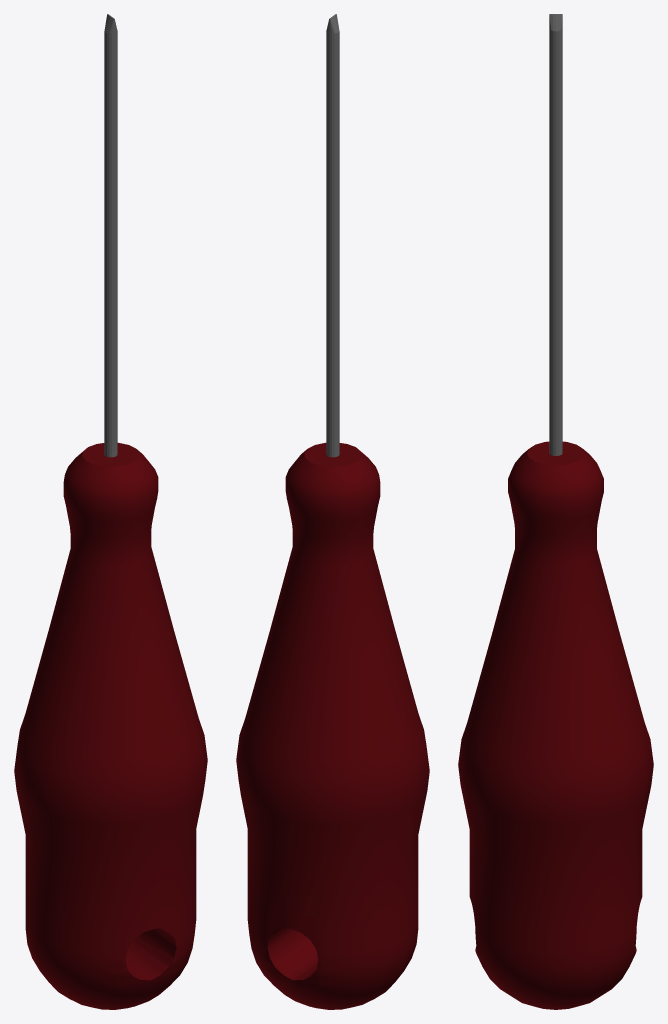
The model's file is screwdriver.fbx.
The picture shows the model from 3 angles, left to right: view 1: azimuth 30°, elevation 25°; view 2: azimuth 150°, elevation 25°; view 3: azimuth 270°, elevation 25°; orthographic projection.
Parts seen in each view (by area): view 1: screwdriver; view 2: screwdriver; view 3: screwdriver.
Part boxes in pixels (x1,y1,x2,y2): screwdriver: [14, 14, 207, 1009]; screwdriver: [236, 14, 429, 1009]; screwdriver: [458, 14, 653, 1009].
Size of the model in its own units: 227 by 1263 by 227.
